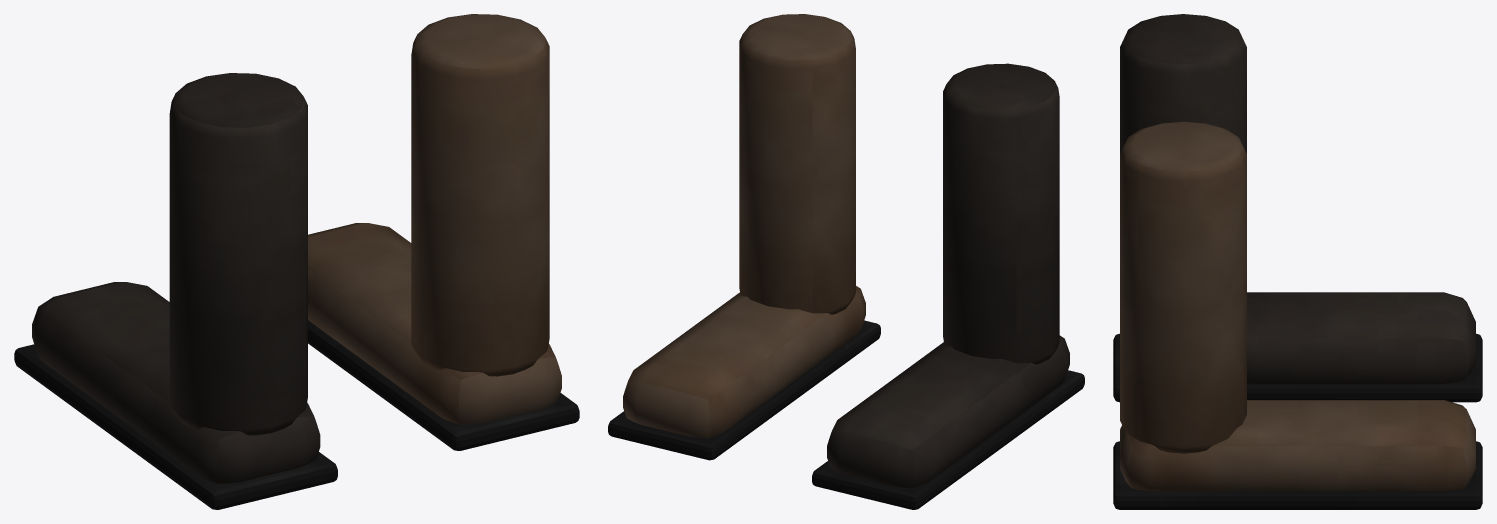
File: CL14_Boots.glb
The picture shows the model from 3 angles, left to right: view 1: azimuth 30°, elevation 25°; view 2: azimuth 150°, elevation 25°; view 3: azimuth 270°, elevation 25°; orthographic projection. The views are drawn at different scales.
Parts seen in each view (by area): view 1: CL14_Boots; view 2: CL14_Boots; view 3: CL14_Boots.
Boxes of the visible parts, x1,y1,x2,y2 form: CL14_Boots: (14,14,579,509); CL14_Boots: (608,14,1084,509); CL14_Boots: (1113,14,1482,509).
Bounding box in the file's own units: 0.3 × 0.2907 × 0.2852.
3 materials, 3 textured.
